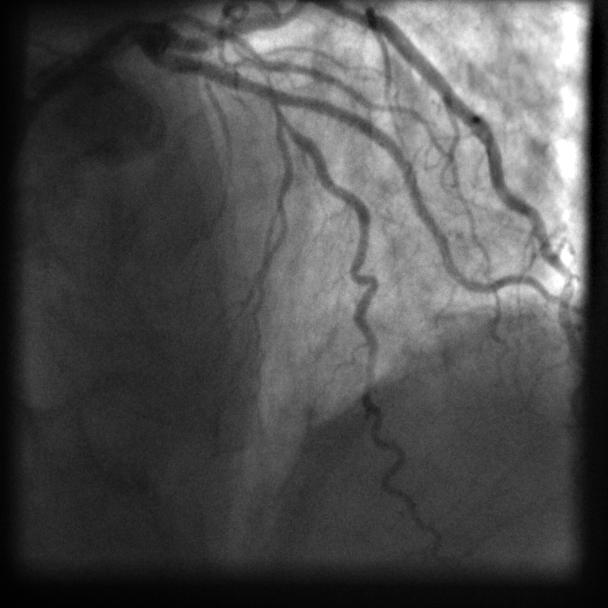Stenosis: (251, 59, 279, 114)
